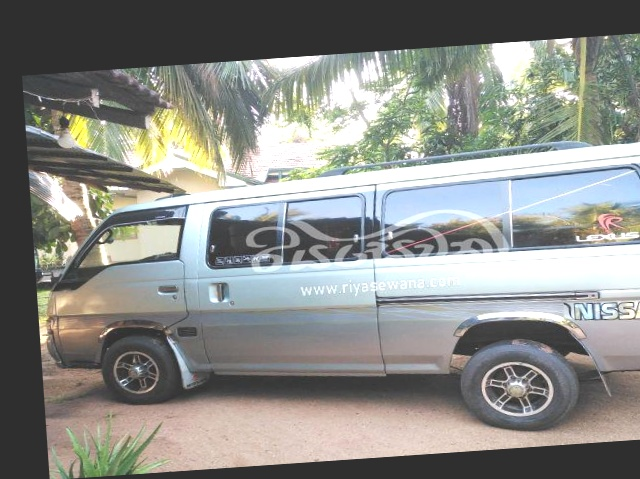van: (38, 151, 640, 437)
